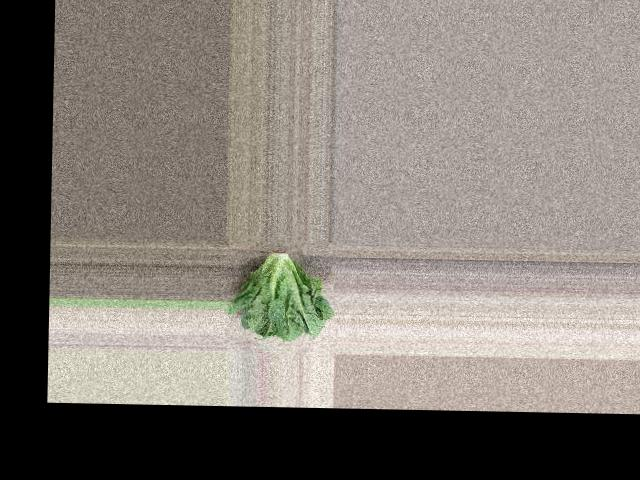lettuce: (227, 244, 331, 345)
